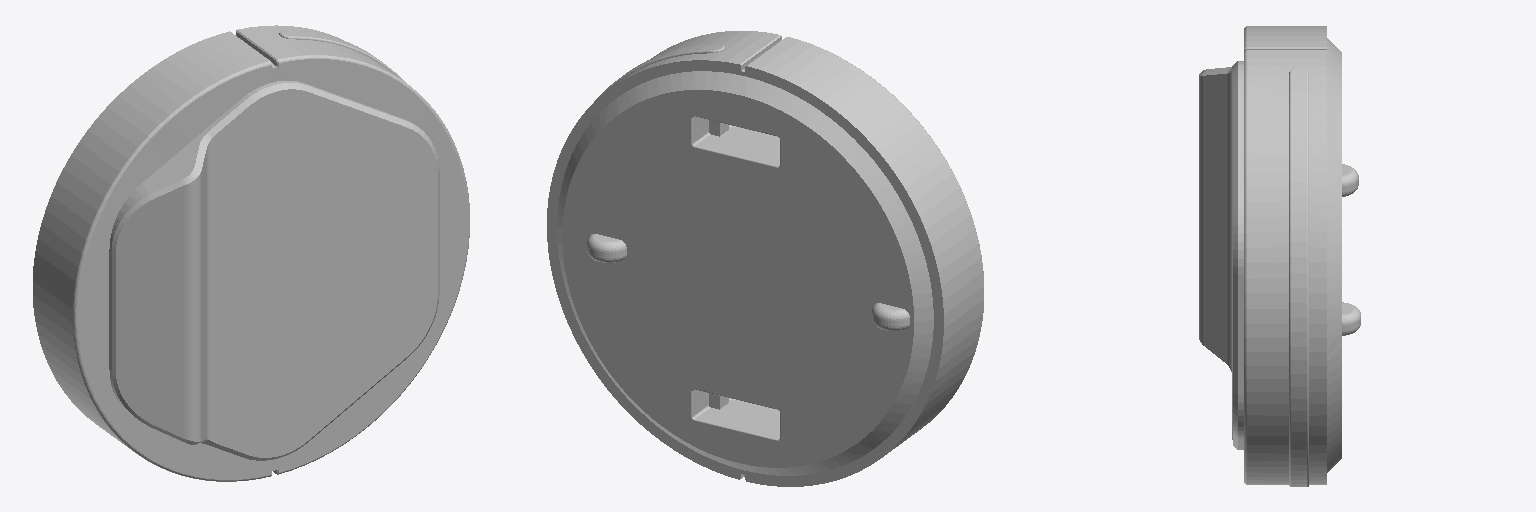
The model's file is kobuki.obj.
3 renders of one model, left to right at view 1: azimuth 30°, elevation 25°; view 2: azimuth 150°, elevation 25°; view 3: azimuth 270°, elevation 25°, orthographic.
Parts seen in each view (by area): view 1: main_body; view 2: main_body; view 3: main_body.
Boxes of the visible parts, <box> form: main_body: <box>33,25,469,481</box>; main_body: <box>547,31,983,486</box>; main_body: <box>1199,26,1360,486</box>.
Bounding box in the file's own units: 0.3518 × 0.35 × 0.1243.